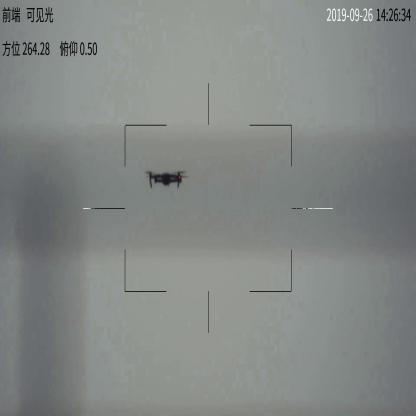uav: (140, 169, 189, 188)
